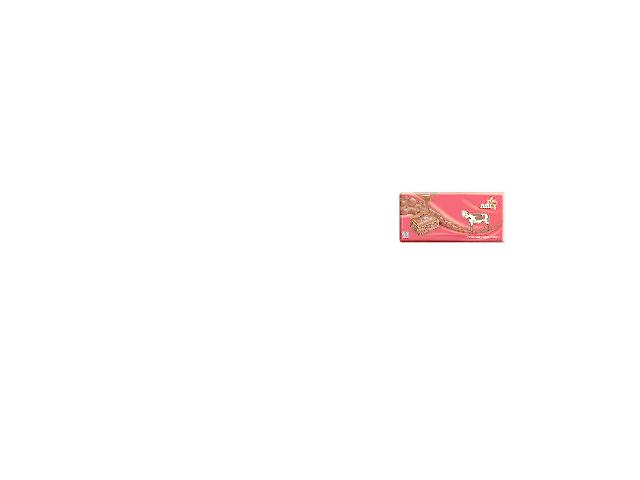chocolate: (396, 190, 508, 248)
